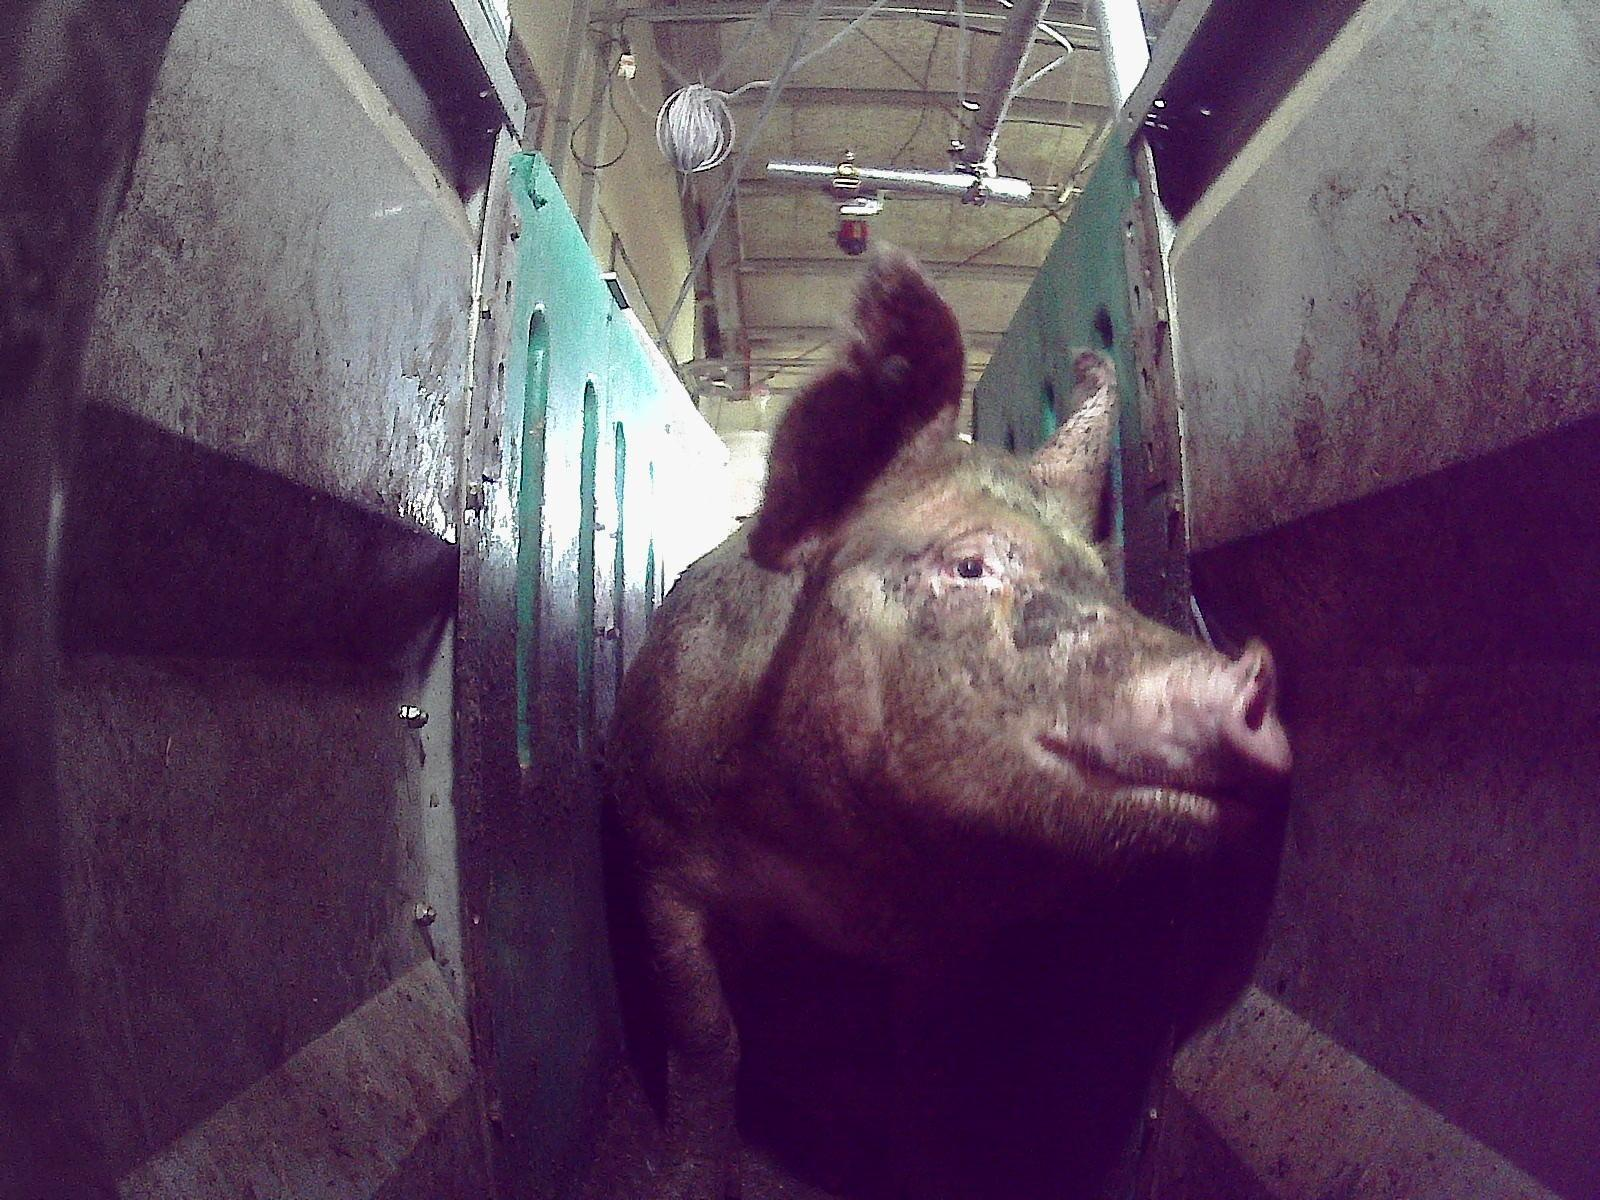Face: (741, 448, 1291, 964)
